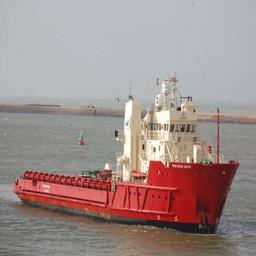Ship: (10, 78, 242, 238)
